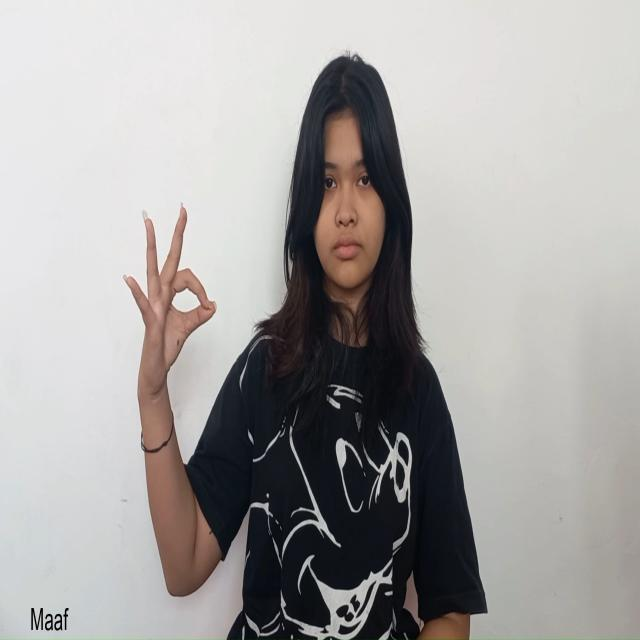Maaf -BISINDO-: (122, 197, 218, 425)
